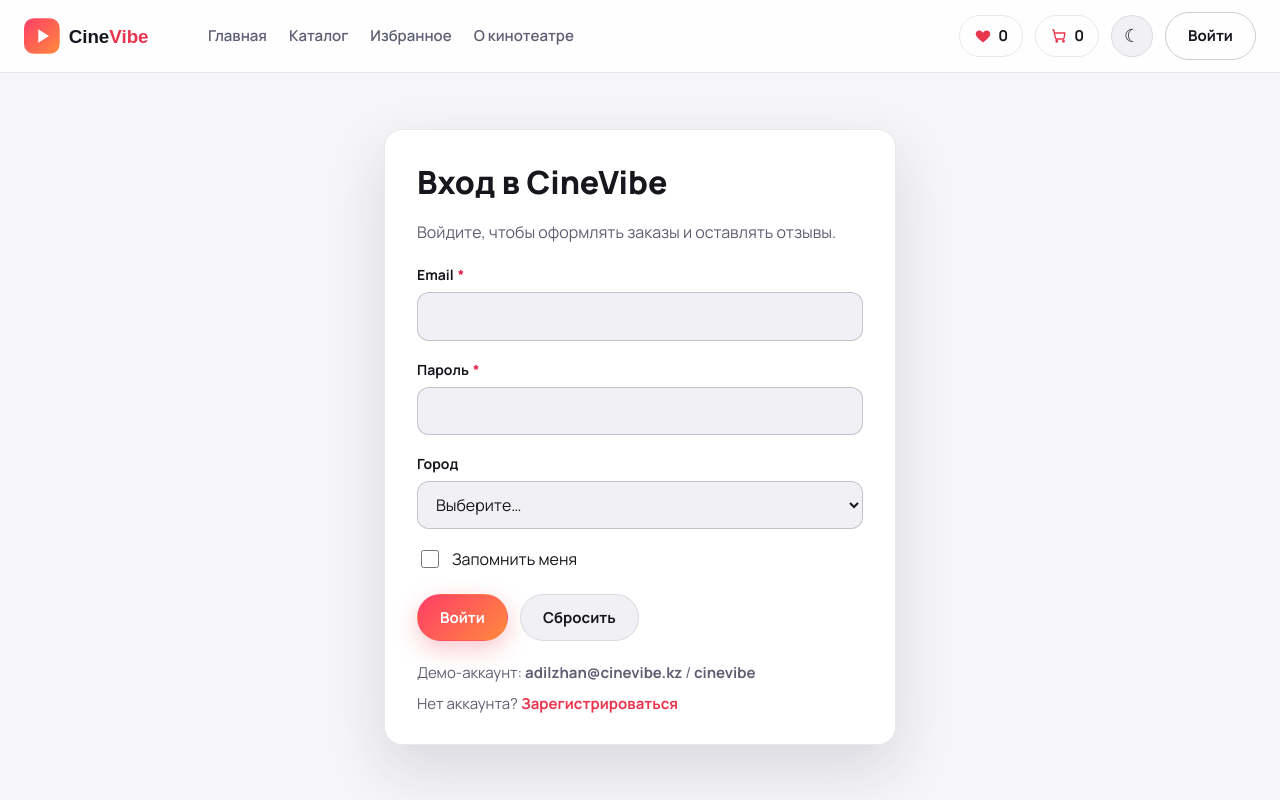
Scenario: Вход › неверный пароль — «Неверный email или пароль»
The image size is (1280, 800).
In the field labelled "Email*": (640, 316) [417,292,863,341], type "adilzhan@cinevibe.kz"
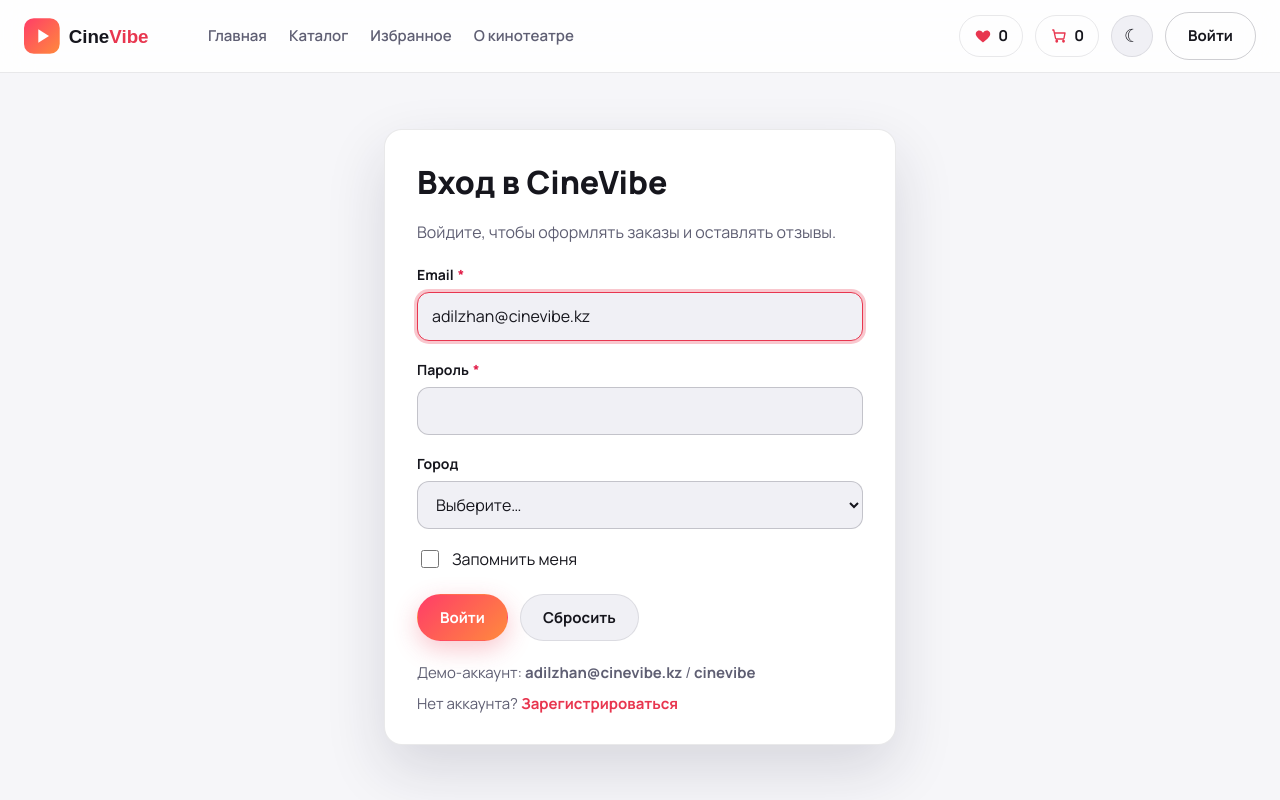
In the password field labelled "Пароль*": (640, 411) [417,387,863,435], type "wrong-pass"
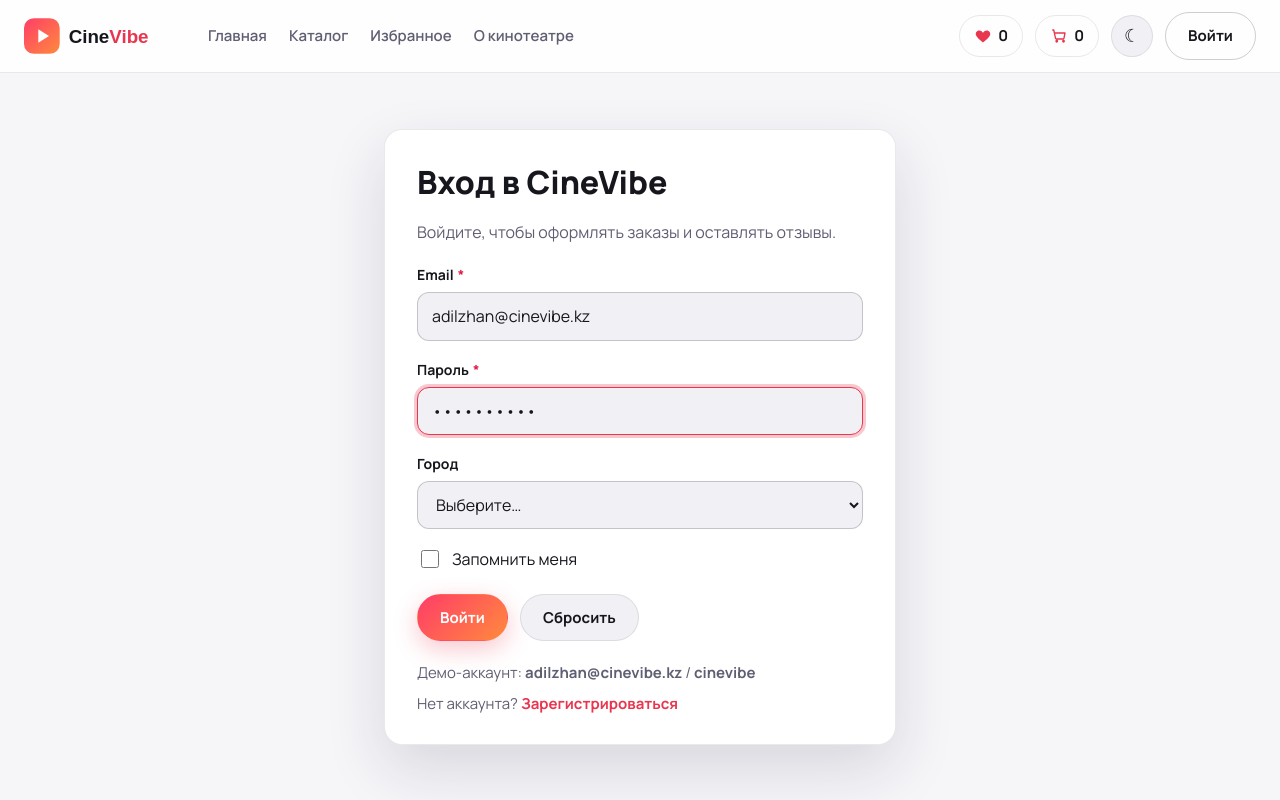
Click the button "Войти" below "Запомнить меня": (462, 617) [417,594,508,641]
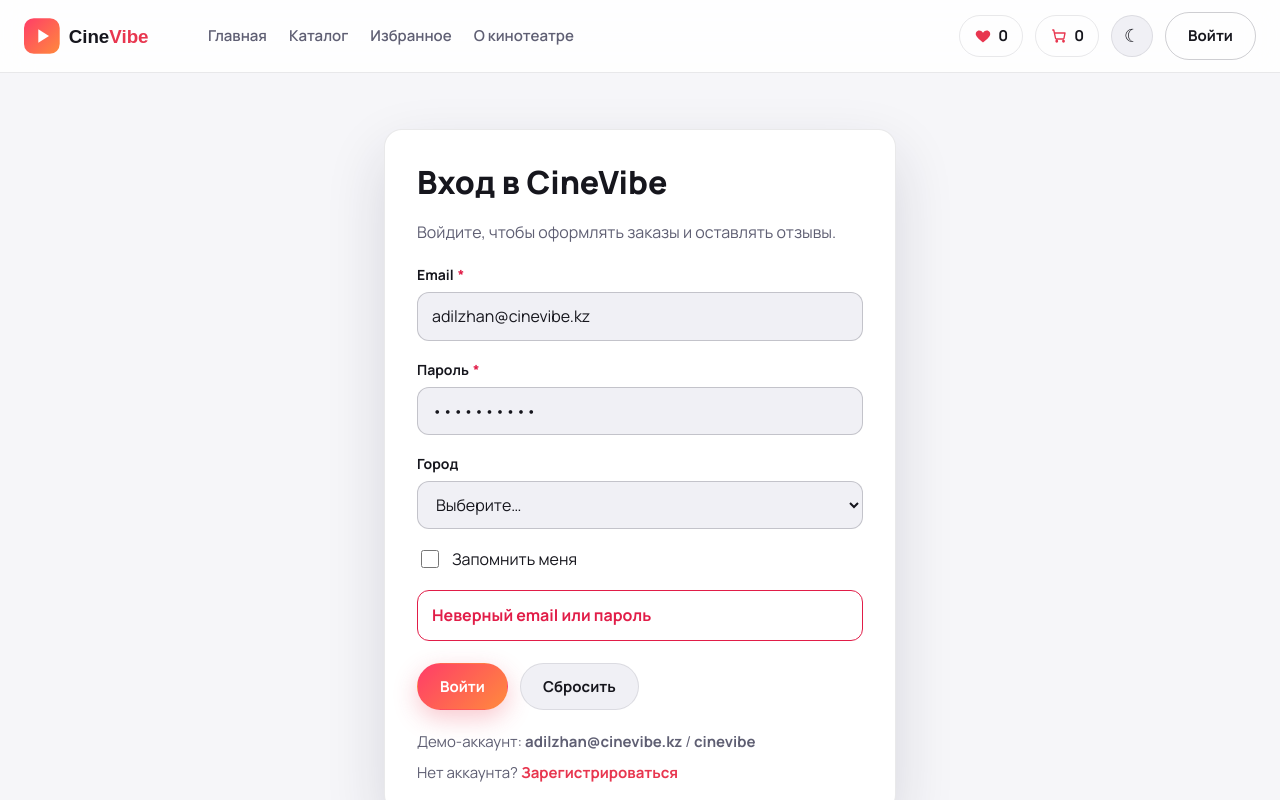
Expected: the text "Неверный email или пароль" is shown, [417,590,863,641]
